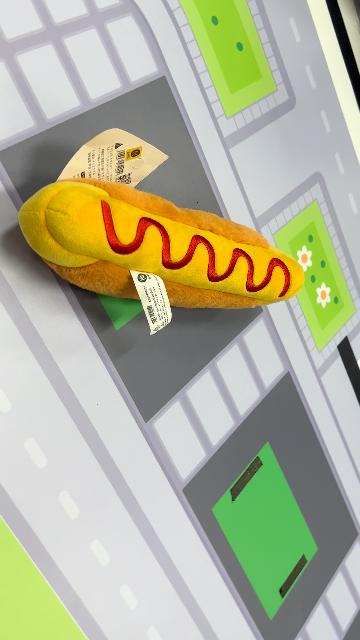hotdog: (21, 178, 304, 314)
